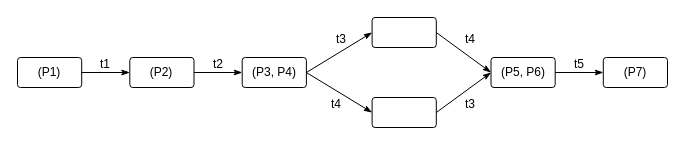
The diagram is 685 pixels wide and 145 high, and some of its shapes have lost their labels. The centre of each missing label's shape, as x and y in pixels:
"(P3, P6)" goes at pixel 403 112.
"(P4, P5)" goes at pixel 403 32.
